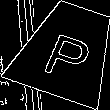P_N: (37, 21, 97, 81)
